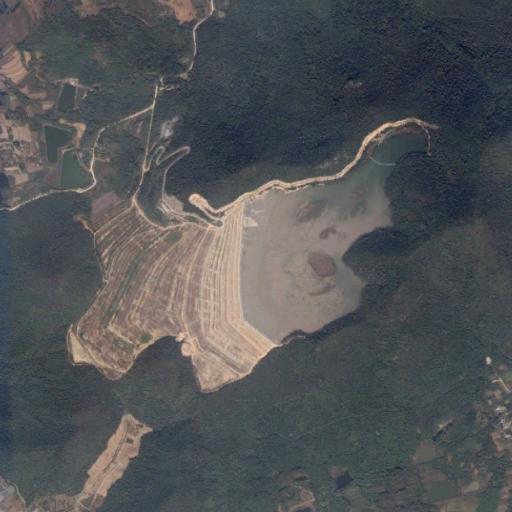tp: (74, 133, 433, 385)
